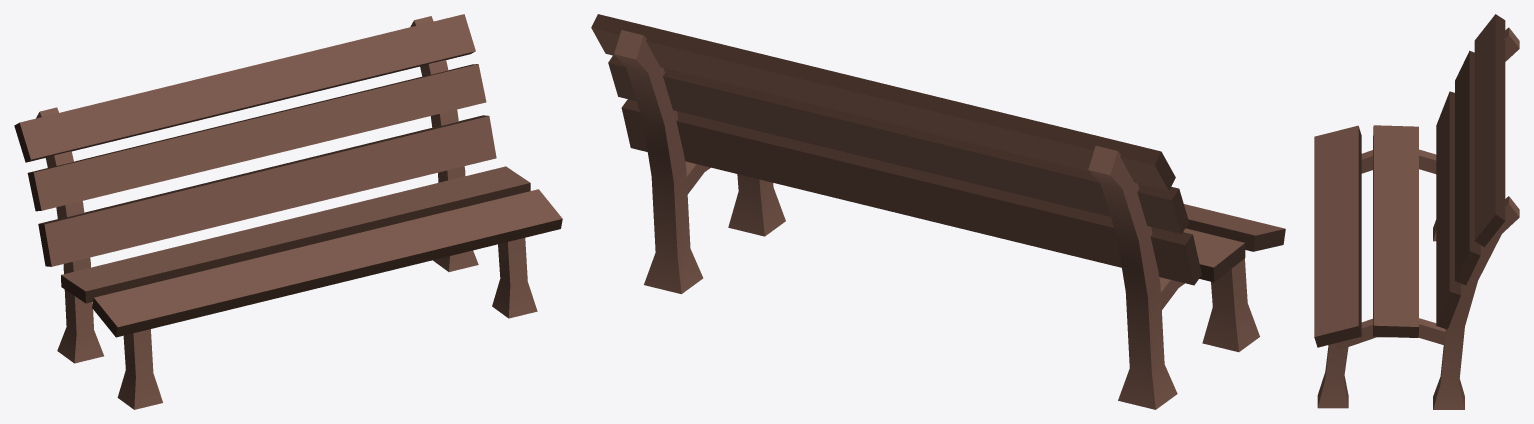
File: bench_001.fbx
3 views of the same model, side by side, from view 1: azimuth 30°, elevation 25°; view 2: azimuth 150°, elevation 25°; view 3: azimuth 270°, elevation 25° (orthographic). The views are drawn at different scales.
Visible parts, largest first — view 1: bench_001; view 2: bench_001; view 3: bench_001.
Boxes of the visible parts, x1,y1,x2,y2 form: bench_001: (14,14,562,409); bench_001: (591,14,1285,409); bench_001: (1314,14,1519,409).
Size of the model in its own units: 227 by 108 by 98.17.
